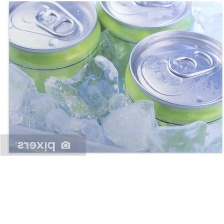can: (123, 27, 223, 133), (9, 0, 102, 97), (95, 0, 194, 35)
